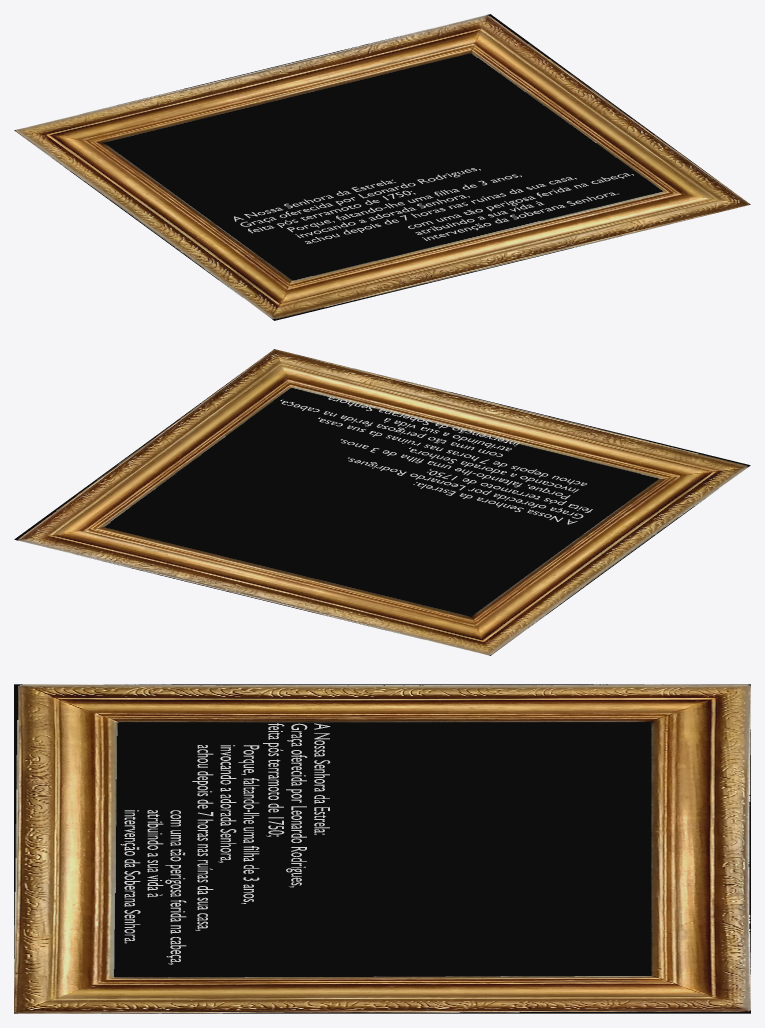
The model's file is nsraestrela.glb.
The picture shows the model from 3 angles, top to bottom: view 1: azimuth 30°, elevation 25°; view 2: azimuth 150°, elevation 25°; view 3: azimuth 270°, elevation 25°; orthographic projection. The views are drawn at different scales.
Visible parts, largest first — view 1: gold-picture-frame-6.001, Text.004, Text.005, Text.003; view 2: gold-picture-frame-6.001, Text.004, Text.005, Text.003; view 3: gold-picture-frame-6.001, Text.004, Text.005, Text.003.
Boxes of the visible parts, x1,y1,x2,y2 form: gold-picture-frame-6.001: [14, 14, 750, 320]; Text.004: [287, 174, 576, 243]; Text.005: [234, 168, 480, 233]; Text.003: [408, 173, 633, 240]; gold-picture-frame-6.001: [14, 349, 750, 655]; Text.004: [318, 417, 586, 499]; Text.005: [348, 457, 592, 524]; Text.003: [280, 396, 519, 456]; gold-picture-frame-6.001: [14, 684, 750, 1013]; Text.004: [192, 745, 259, 930]; Text.005: [263, 723, 330, 887]; Text.003: [120, 810, 186, 964].
Bounding box in the file's own units: 1.78 × 0.0235 × 1.69.
2 materials, 1 textured.
